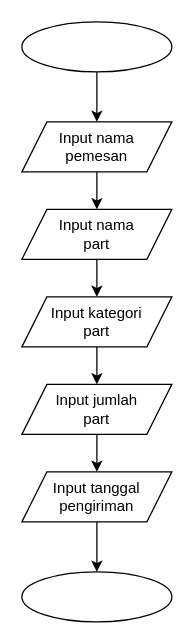
The diagram is 194 pixels wide and 644 high, and some of its shapes have lost their labels. The shapes that lost their labels are listed below. From the top down, each one's box as (x1, y1, x2, y2) in pixels, then its label:
(21, 21, 172, 72): Mulai
(21, 571, 172, 622): Selesai
